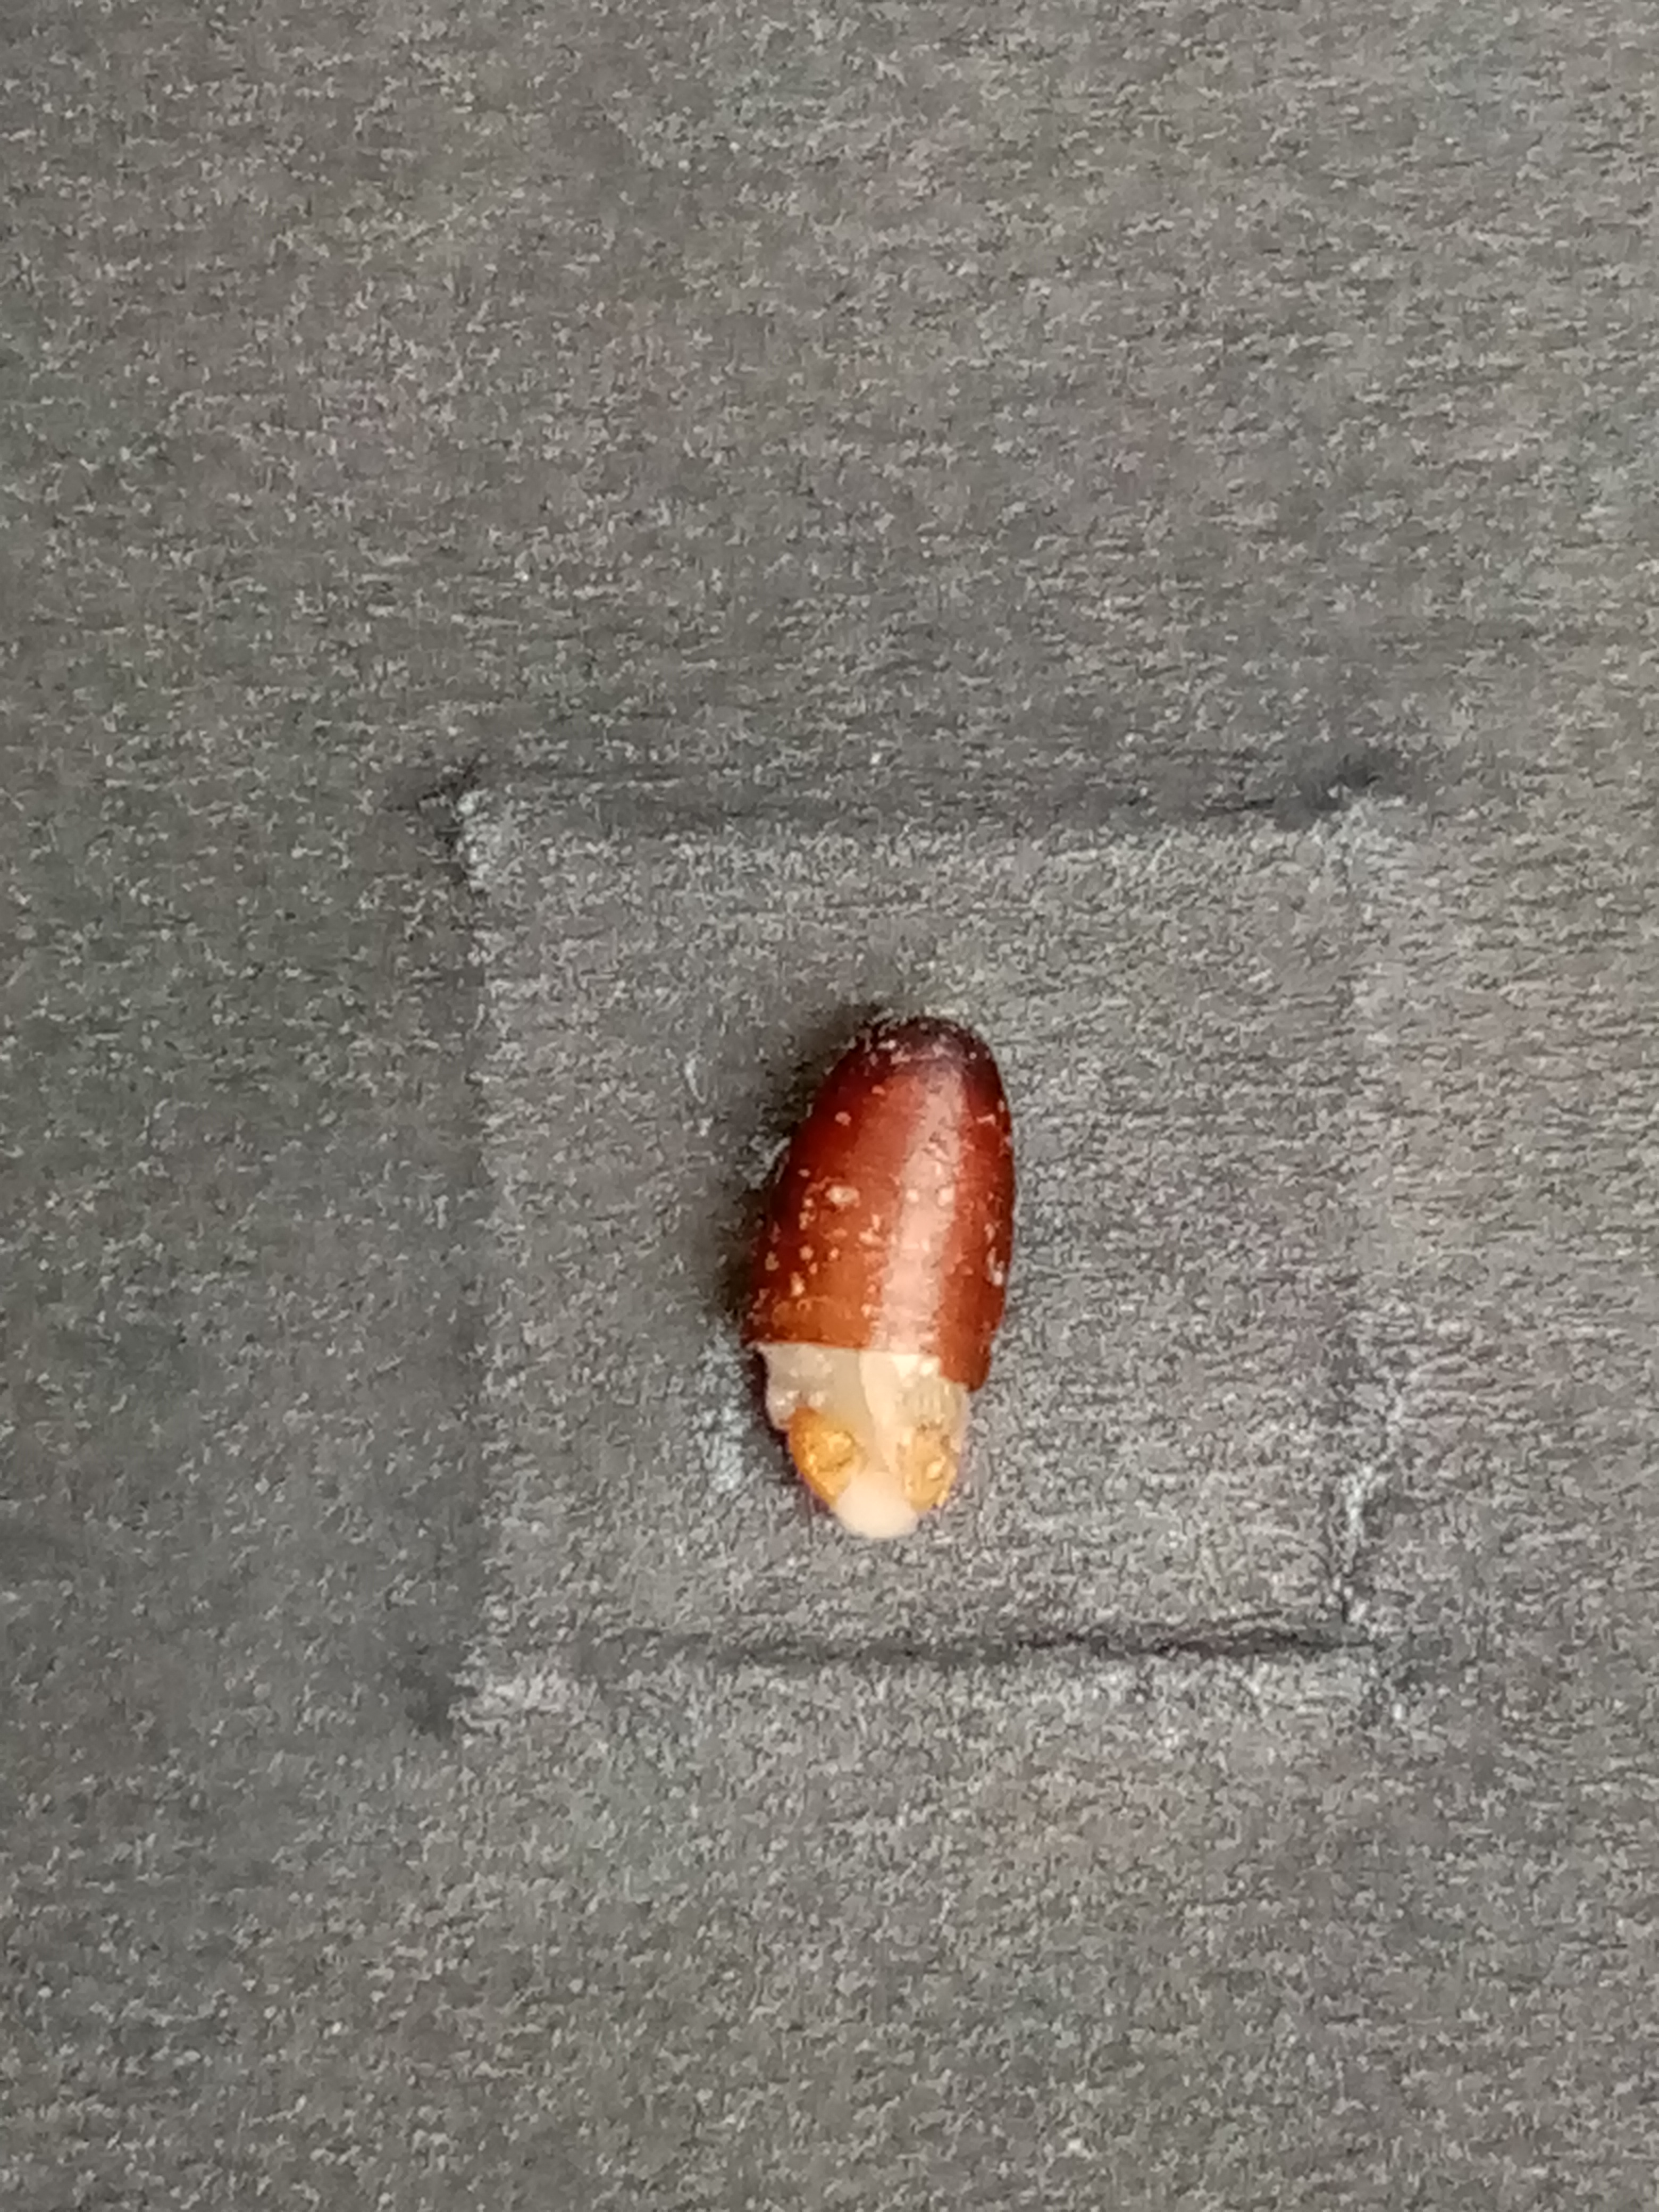pupa: (769, 1388, 971, 1550)
